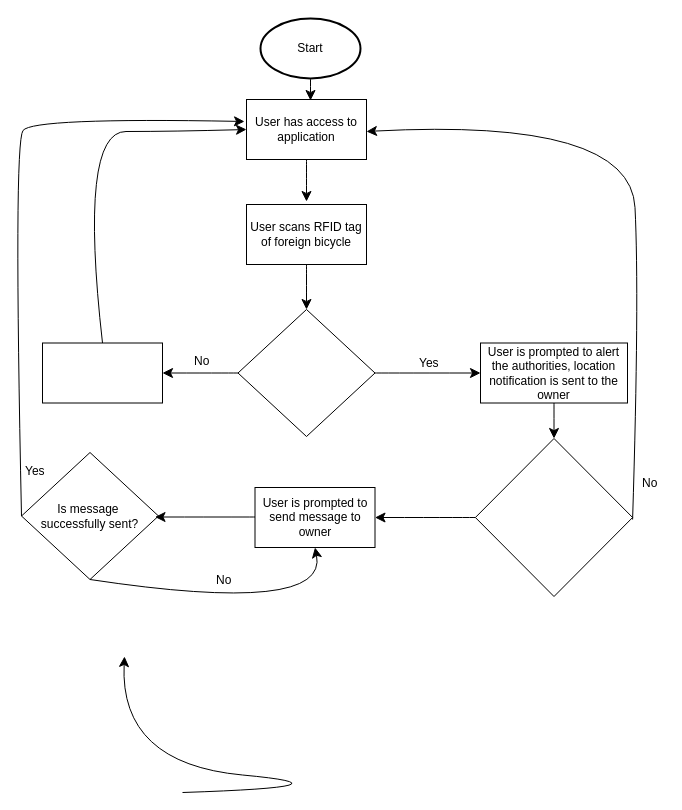
Some shapes in this 682 by 810 pixel diagram are drawn without their labels. Here are the shapes that lost their labels. From the top down, the centre of each, then its label:
(102,372): Application displays "Bicycle not stolen"
(306,372): Is the bicycle scanned marked as stolen?
(553,517): Does the owner of the stolen bicycle allow for messaging?
